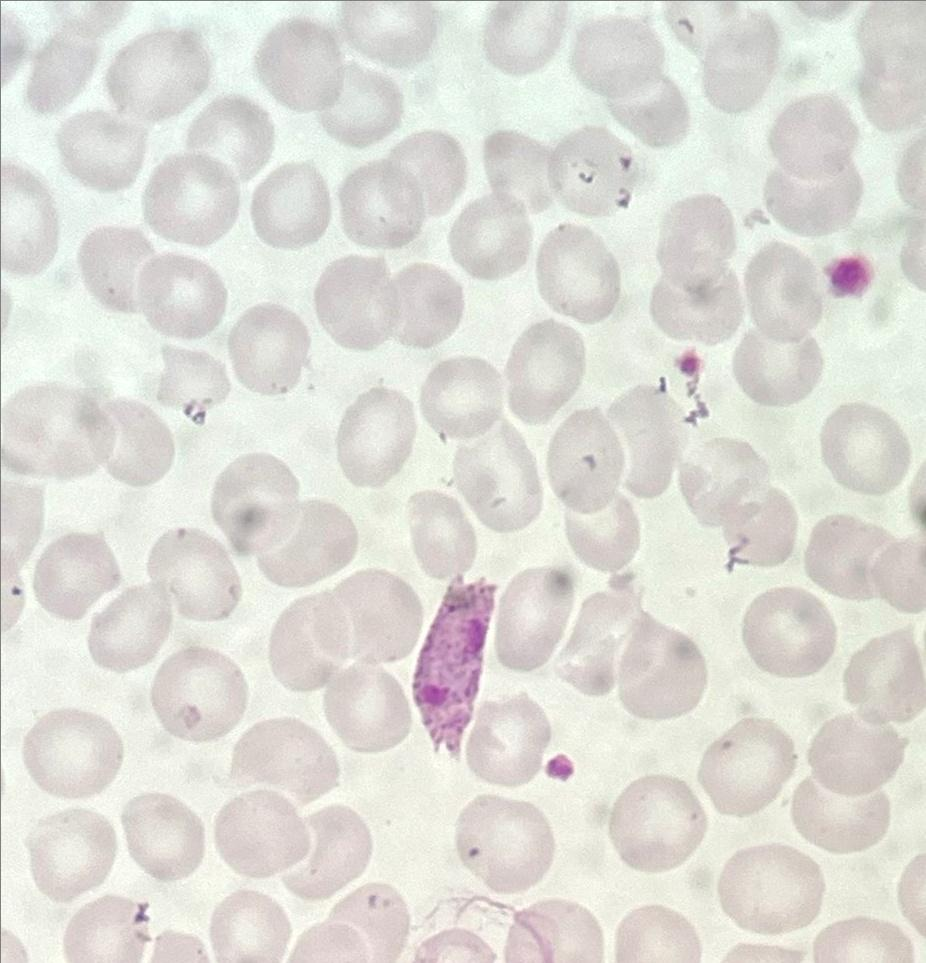Infected: (408, 573, 509, 756)
Uninfected: (1, 382, 117, 479), (208, 452, 305, 557), (322, 568, 422, 668), (612, 616, 707, 721), (106, 28, 211, 123), (449, 425, 542, 532), (453, 794, 552, 892), (228, 716, 339, 803), (254, 500, 360, 590), (696, 717, 793, 815), (607, 773, 706, 869), (21, 707, 123, 799), (142, 153, 241, 247), (715, 844, 818, 934), (146, 523, 241, 620), (551, 585, 637, 692), (281, 803, 376, 899), (148, 648, 246, 741), (492, 564, 576, 672), (266, 591, 353, 695), (314, 255, 405, 354), (569, 15, 668, 106), (212, 789, 311, 879), (545, 407, 628, 514), (253, 19, 348, 112), (132, 250, 229, 341), (819, 400, 912, 493), (503, 320, 588, 421), (742, 239, 827, 340), (766, 94, 860, 185), (604, 386, 681, 496), (740, 586, 833, 676), (533, 226, 619, 323), (31, 530, 122, 621), (550, 125, 641, 216), (698, 11, 779, 113), (25, 810, 116, 900), (807, 714, 902, 800), (335, 389, 419, 486), (655, 193, 739, 289), (764, 156, 862, 238), (682, 434, 770, 524), (804, 513, 895, 600), (336, 161, 425, 249), (462, 696, 550, 784), (226, 304, 312, 393), (76, 223, 158, 316), (88, 583, 174, 671), (248, 160, 333, 249), (121, 792, 206, 880), (314, 62, 403, 146), (792, 776, 889, 853), (326, 663, 410, 751), (183, 96, 272, 179), (418, 354, 504, 439), (98, 398, 180, 487), (57, 110, 148, 190), (648, 267, 741, 345), (26, 27, 106, 116), (731, 328, 821, 407), (844, 630, 922, 721), (447, 195, 530, 280), (384, 130, 465, 217), (480, 129, 561, 213), (384, 261, 463, 347), (321, 883, 410, 957), (405, 488, 477, 578), (560, 495, 640, 576), (339, 2, 434, 69), (481, 3, 567, 74), (153, 342, 229, 417), (724, 488, 797, 566), (618, 77, 691, 147)
